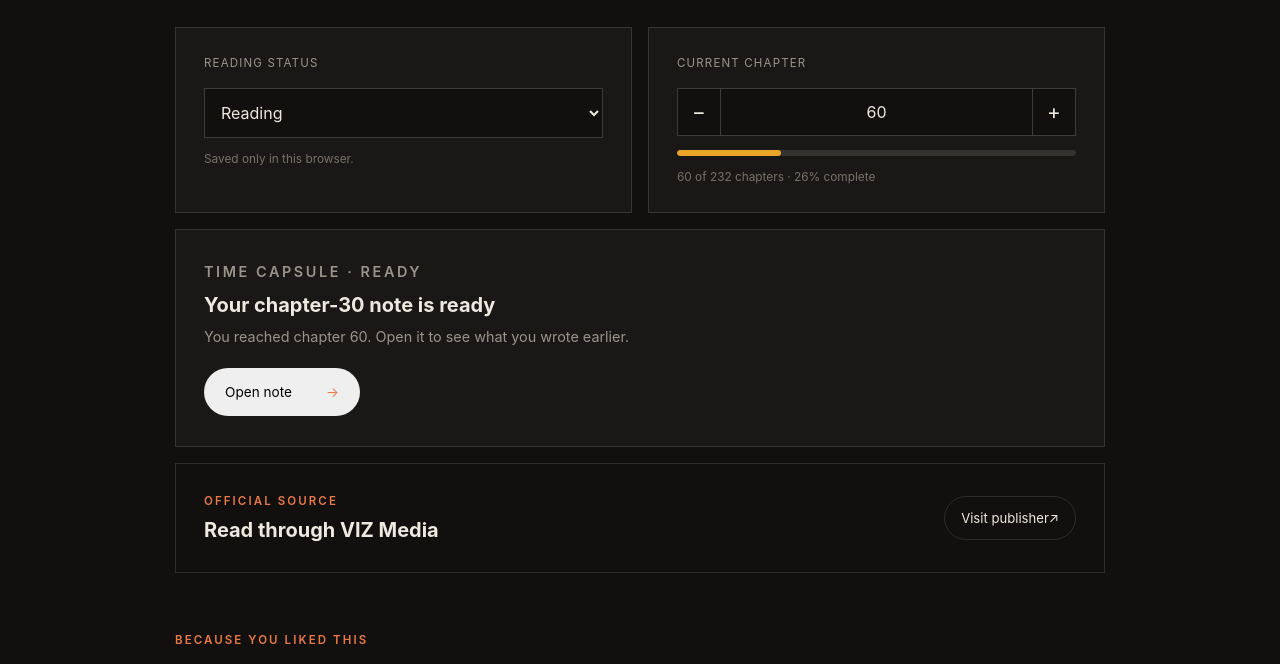
time capsule UI › reveals a note only on explicit press once the milestone is reached
(page scrolled)
Expected: the heading "Your chapter-30 note is ready" is shown, left=204, top=293, right=495, bottom=317
Expected: the text "The devil wins, I think." is not shown
Click the button "Open note →" at (282, 392), box left=204, top=368, right=360, bottom=416
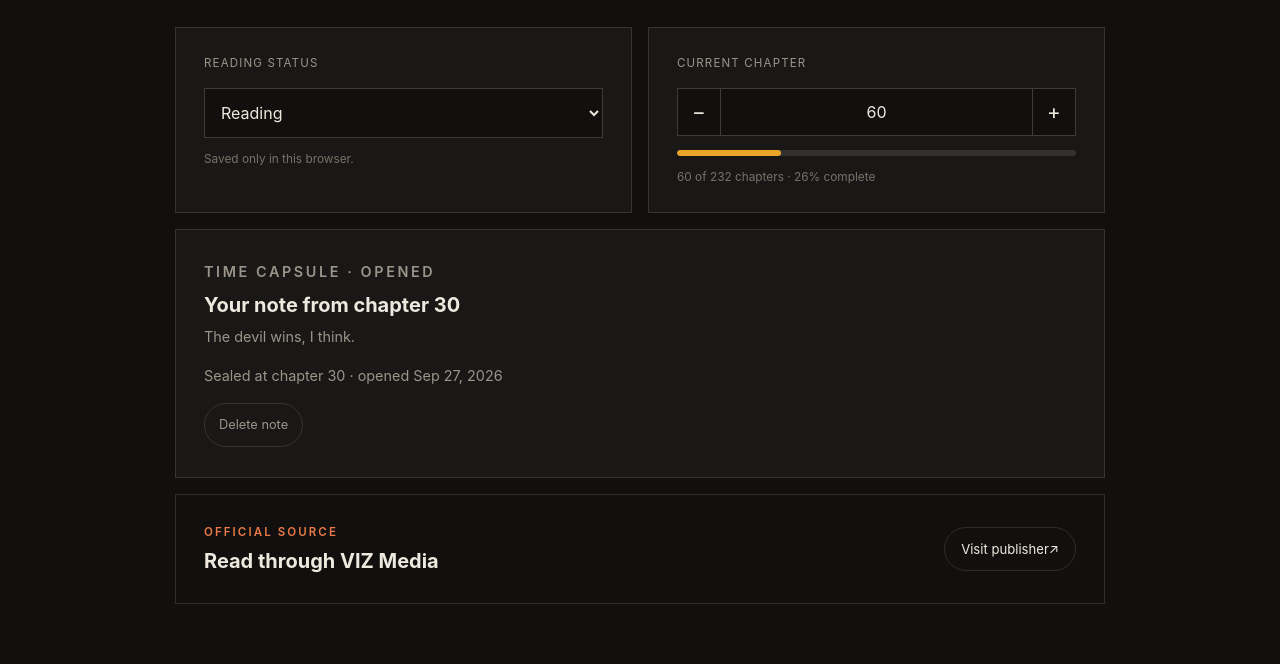
Expected: the text "The devil wins, I think." is shown, left=204, top=328, right=355, bottom=345
